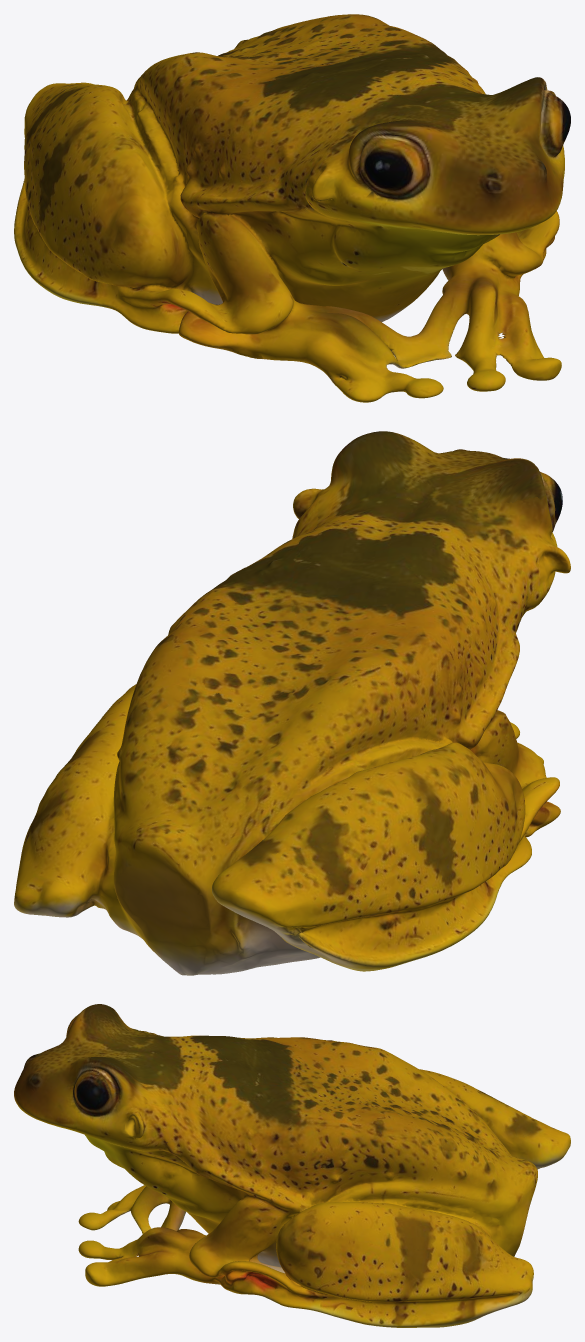
File: tlalocohyla-loquax.glb
3 renders of one model, top to bottom at view 1: azimuth 30°, elevation 25°; view 2: azimuth 150°, elevation 25°; view 3: azimuth 270°, elevation 25°, orthographic. The views are drawn at different scales.
Visible parts, largest first — view 1: tripo_node_c5440bf3-8cc9-4174-8a55-e6cc1abb0917; view 2: tripo_node_c5440bf3-8cc9-4174-8a55-e6cc1abb0917; view 3: tripo_node_c5440bf3-8cc9-4174-8a55-e6cc1abb0917.
Part boxes in pixels (x1,y1,x2,y2): tripo_node_c5440bf3-8cc9-4174-8a55-e6cc1abb0917: (14,14,570,402); tripo_node_c5440bf3-8cc9-4174-8a55-e6cc1abb0917: (14,431,570,975); tripo_node_c5440bf3-8cc9-4174-8a55-e6cc1abb0917: (14,1004,570,1327).
Size of the model in its own units: 0.6566 by 0.5226 by 0.9999.
1 material, 1 textured.
